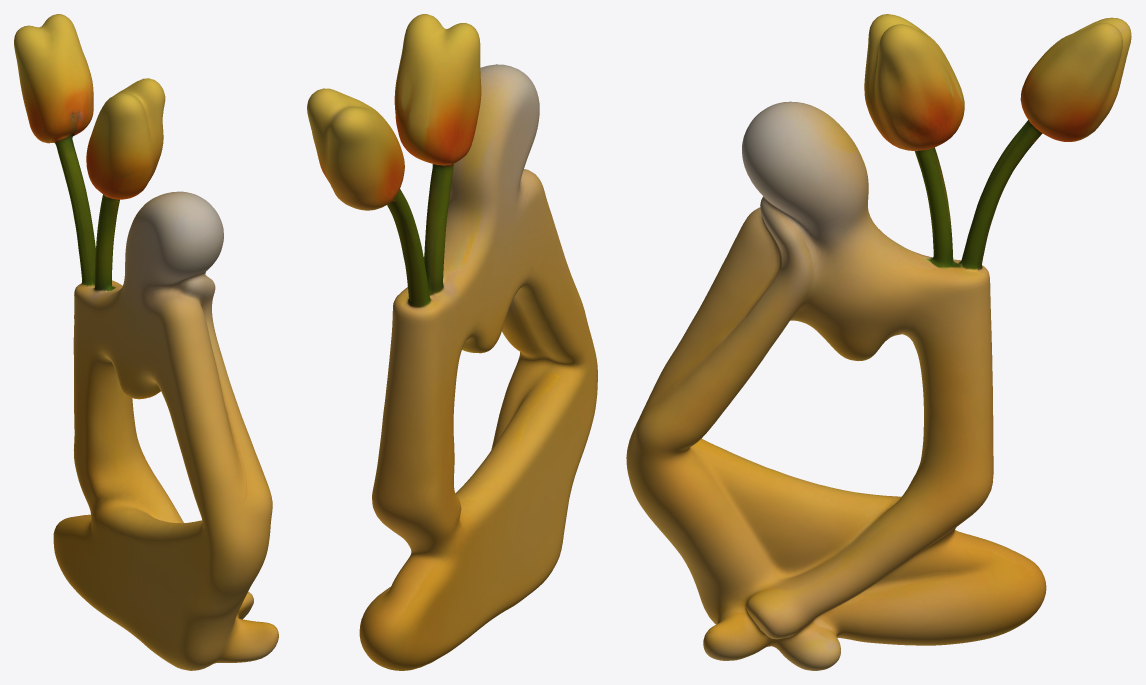
The model's file is humanoid-vase.fbx.
3 views of the same model, side by side, from view 1: azimuth 30°, elevation 25°; view 2: azimuth 150°, elevation 25°; view 3: azimuth 270°, elevation 25° (orthographic). The views are drawn at different scales.
Visible parts, largest first — view 1: tripo_node_66c083a3-4fd1-4e1a-82df-baf4569172f6; view 2: tripo_node_66c083a3-4fd1-4e1a-82df-baf4569172f6; view 3: tripo_node_66c083a3-4fd1-4e1a-82df-baf4569172f6.
Part boxes in pixels (x1,y1,x2,y2): tripo_node_66c083a3-4fd1-4e1a-82df-baf4569172f6: [14, 14, 278, 670]; tripo_node_66c083a3-4fd1-4e1a-82df-baf4569172f6: [307, 14, 597, 670]; tripo_node_66c083a3-4fd1-4e1a-82df-baf4569172f6: [626, 14, 1131, 670].
Bounding box in the file's own units: 17.14 × 94.89 × 69.58.
1 material, 1 textured.
